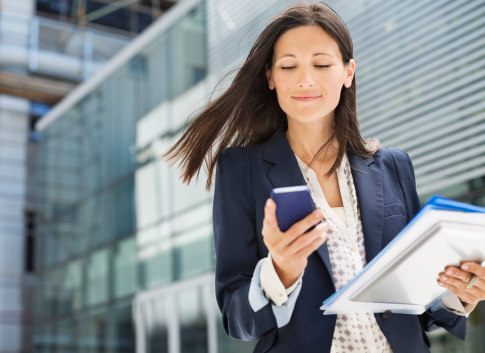em pe: (191, 0, 443, 353)
